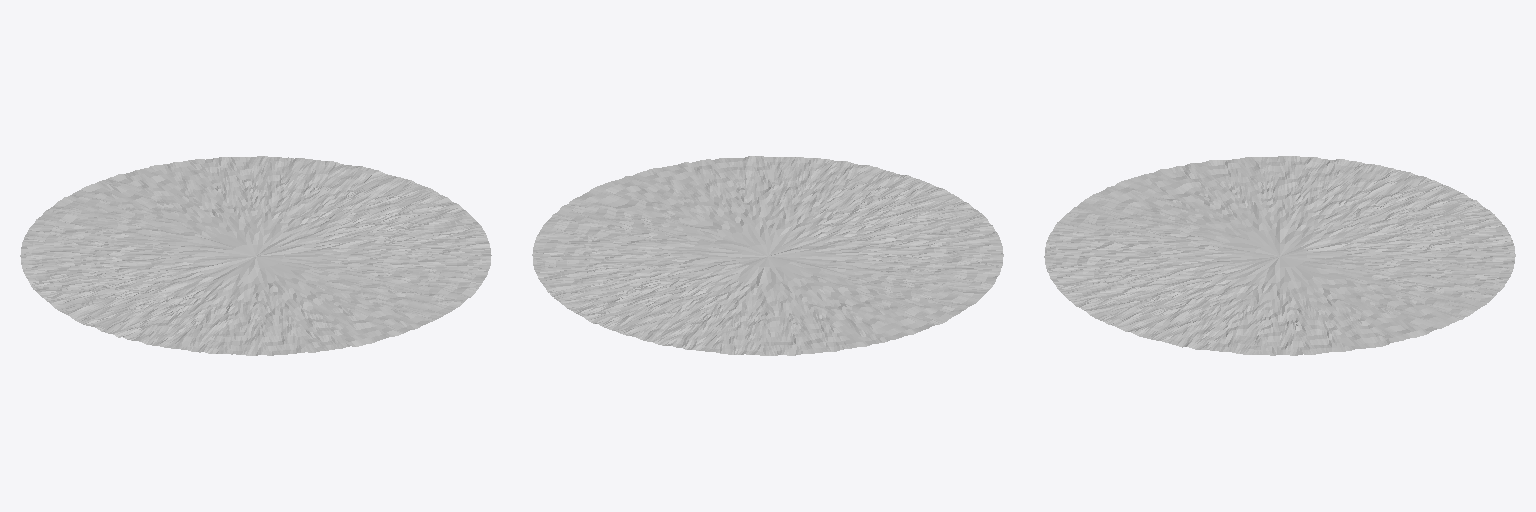
The model's file is water.obj.
The picture shows the model from 3 angles: view 1: azimuth 30°, elevation 25°; view 2: azimuth 150°, elevation 25°; view 3: azimuth 270°, elevation 25°; orthographic projection.
Parts seen in each view (by area): view 1: Cave_water; view 2: Cave_water; view 3: Cave_water.
Boxes of the visible parts, <box> form: Cave_water: <box>20,156,491,355</box>; Cave_water: <box>532,156,1003,355</box>; Cave_water: <box>1044,156,1515,355</box>.
Size of the model in its own units: 13.54 by 0.0681 by 13.54.